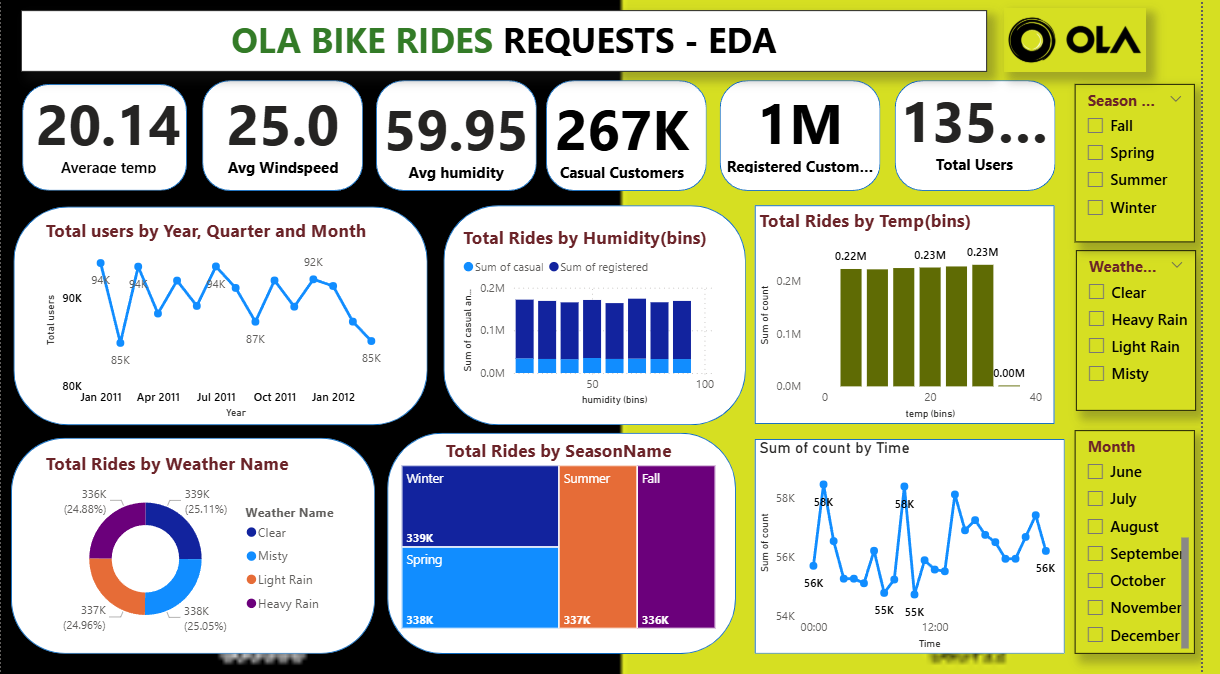

This screenshot's page, from the dashboard's own definition file:
{"tool":"powerbi","page":{"name":"Page 1","canvas":[1280,720],"ordinal":0},"visuals":[{"type":"shape","box":[954.3,86.3,171.5,118],"z":0,"group":"g1"},{"type":"shape","box":[411.7,462.4,371.9,236],"z":0},{"type":"shape","box":[767.7,86.4,171.5,118],"z":1000,"group":"g1"},{"type":"shape","box":[11,467.9,388.3,230.5],"z":1000},{"type":"shape","box":[581,86.4,171.5,118],"z":2000,"group":"g1"},{"type":"slicer","fields":{"Values":["Ola.Season Name"]},"box":[1145.8,90.6,127.6,168.8],"z":2000},{"type":"shape","box":[399.9,86.4,171.5,118],"z":3000,"group":"g1"},{"type":"group","id":"g1","title":"Group 1","box":[13.7,78.2,1112.1,375.6],"z":3000},{"type":"shape","box":[214.7,86.4,171.5,118],"z":4000,"group":"g1"},{"type":"slicer","fields":{"Values":["Ola.Weather Name"]},"box":[1146.2,268.5,127.8,170.8],"z":4000},{"type":"shape","box":[13.7,220.5,441.7,233.3],"z":5000,"group":"g1"},{"type":"slicer","fields":{"Values":["Ola.datetime.Variation.Date Hierarchy.Month"]},"box":[1145.8,459.7,127.6,238.8],"z":5000},{"type":"shape","box":[22.6,90.5,175.6,113.9],"z":6000,"group":"g1"},{"type":"lineChart","fields":{"Y":["Sum(Ola.count)"],"Category":["Ola.datetime.Variation.Date Hierarchy.Year","Ola.datetime.Variation.Date Hierarchy.Quarter","Ola.datetime.Variation.Date Hierarchy.Month","Ola.datetime.Variation.Date Hierarchy.Day"]},"box":[42,233.8,380.6,219.4],"z":6000},{"type":"card","fields":{"Values":["Ola Sales Analysis.Average temp"]},"box":[32.2,90.5,166,100.2],"z":7000,"group":"g1"},{"type":"shape","box":[472,219.6,322.5,234.6],"z":7000},{"type":"card","fields":{"Values":["Ola Sales Analysis.Avg Windspeed"]},"box":[216,85.1,170.2,111.1],"z":8000,"group":"g1"},{"type":"shape","box":[804.1,219.6,319.7,233.3],"z":8000},{"type":"card","fields":{"Values":["Ola Sales Analysis.Avg humidity"]},"box":[399.9,91.9,171.5,108.4],"z":9000,"group":"g1"},{"type":"columnChart","title":"Total Rides by Humidity(bins)","fields":{"Category":["Ola.humidity (bins)"],"Y":["Sum(Ola.casual)","Sum(Ola.registered)"]},"box":[488.5,241.5,278.6,197.6],"z":9000},{"type":"card","fields":{"Values":["Sum(Ola Sales Analysis.casual)"]},"box":[574.2,91.9,178.4,108.4],"z":10000,"group":"g1"},{"type":"columnChart","title":"Total Rides by Temp(bins)","fields":{"Y":["Sum(Ola.count)"],"Category":["Ola.temp (bins)"]},"box":[804.1,222.3,319.7,230.5],"z":10000},{"type":"card","fields":{"Values":["Sum(Ola Sales Analysis.registered)"]},"box":[767.7,87.8,171.5,102.9],"z":11000,"group":"g1"},{"type":"donutChart","title":"Total Rides by Weather Name","fields":{"Category":["Ola.Weather Name"],"Y":["Sum(Ola.count)"]},"box":[42.5,483,325.2,204.5],"z":11000},{"type":"card","fields":{"Values":["Ola Sales Analysis.Total Customers"]},"box":[954.3,78.2,170.2,118],"z":12000,"group":"g1"},{"type":"treemap","title":"Total Rides by SeasonName","fields":{"Values":["Sum(Ola.count)"],"Group":["Ola.Season Name"]},"box":[422.6,467.9,344.4,208.6],"z":12000},{"type":"textbox","box":[22,12.3,1030.5,65.9],"z":13000},{"type":"shape","box":[804.1,469.3,330.7,229.2],"z":14000},{"type":"lineChart","fields":{"Category":["Ola.Time"],"Y":["Sum(Ola.count)"]},"box":[804.1,467.9,330.7,230.5],"z":15000},{"type":"image","box":[1069,9.6,152.3,68.6],"z":16000}]}

Visuals, with their boxes in screenshot pixels (x1, y1, x2, y2), scaled from the page's 1280x720 canvas onto the 1220x674 screenshot:
shape: bbox=(910, 81, 1073, 191)
shape: bbox=(392, 433, 747, 654)
shape: bbox=(732, 81, 895, 191)
shape: bbox=(10, 438, 381, 654)
shape: bbox=(554, 81, 717, 191)
slicer - Ola.Season Name: bbox=(1092, 85, 1214, 243)
shape: bbox=(381, 81, 545, 191)
"Group 1" group: bbox=(13, 73, 1073, 425)
shape: bbox=(205, 81, 368, 191)
slicer - Ola.Weather Name: bbox=(1092, 251, 1214, 411)
shape: bbox=(13, 206, 434, 425)
slicer - Ola.datetime.Variation.Date Hierarchy.Month: bbox=(1092, 430, 1214, 654)
shape: bbox=(22, 85, 189, 191)
lineChart - Sum(Ola.count) x Ola.datetime.Variation.Date Hierarchy.Year: bbox=(40, 219, 403, 424)
card - Ola Sales Analysis.Average temp: bbox=(31, 85, 189, 179)
shape: bbox=(450, 206, 757, 425)
card - Ola Sales Analysis.Avg Windspeed: bbox=(206, 80, 368, 184)
shape: bbox=(766, 206, 1071, 424)
card - Ola Sales Analysis.Avg humidity: bbox=(381, 86, 545, 188)
"Total Rides by Humidity(bins)" columnChart: bbox=(466, 226, 731, 411)
card - Sum(Ola Sales Analysis.casual): bbox=(547, 86, 717, 188)
"Total Rides by Temp(bins)" columnChart: bbox=(766, 208, 1071, 424)
card - Sum(Ola Sales Analysis.registered): bbox=(732, 82, 895, 179)
"Total Rides by Weather Name" donutChart: bbox=(41, 452, 350, 644)
card - Ola Sales Analysis.Total Customers: bbox=(910, 73, 1072, 184)
"Total Rides by SeasonName" treemap: bbox=(403, 438, 731, 633)
textbox: bbox=(21, 12, 1003, 73)
shape: bbox=(766, 439, 1082, 654)
lineChart - Ola.Time x Sum(Ola.count): bbox=(766, 438, 1082, 654)
image: bbox=(1019, 9, 1164, 73)
